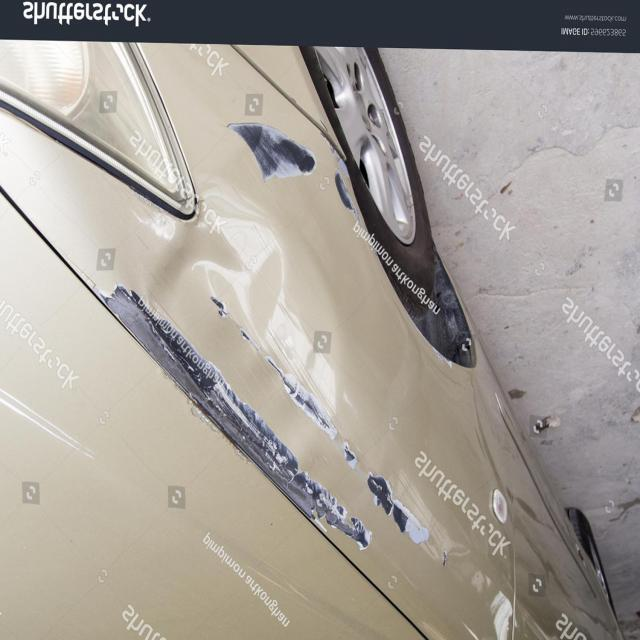scratch: (84, 276, 436, 558), (217, 110, 366, 224)
